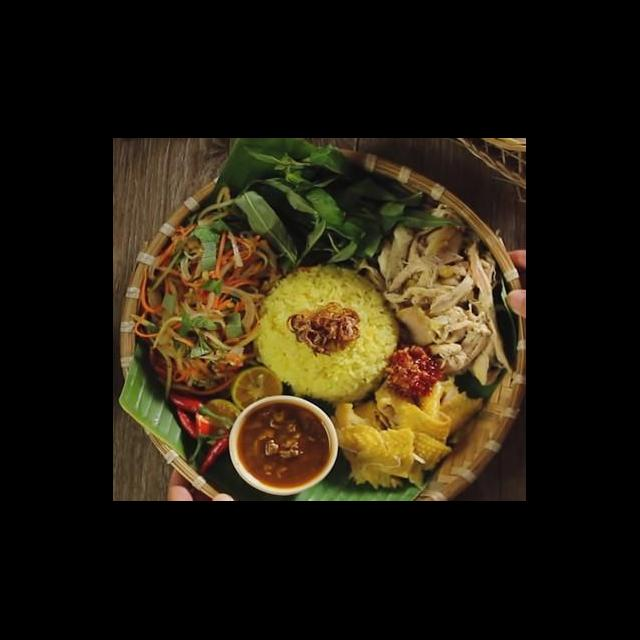com: (252, 262, 402, 408)
rau ram: (227, 144, 463, 270)
thit ga: (358, 202, 516, 388), (324, 364, 486, 494)
